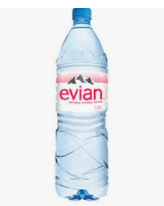Bottle: (54, 8, 109, 200)
